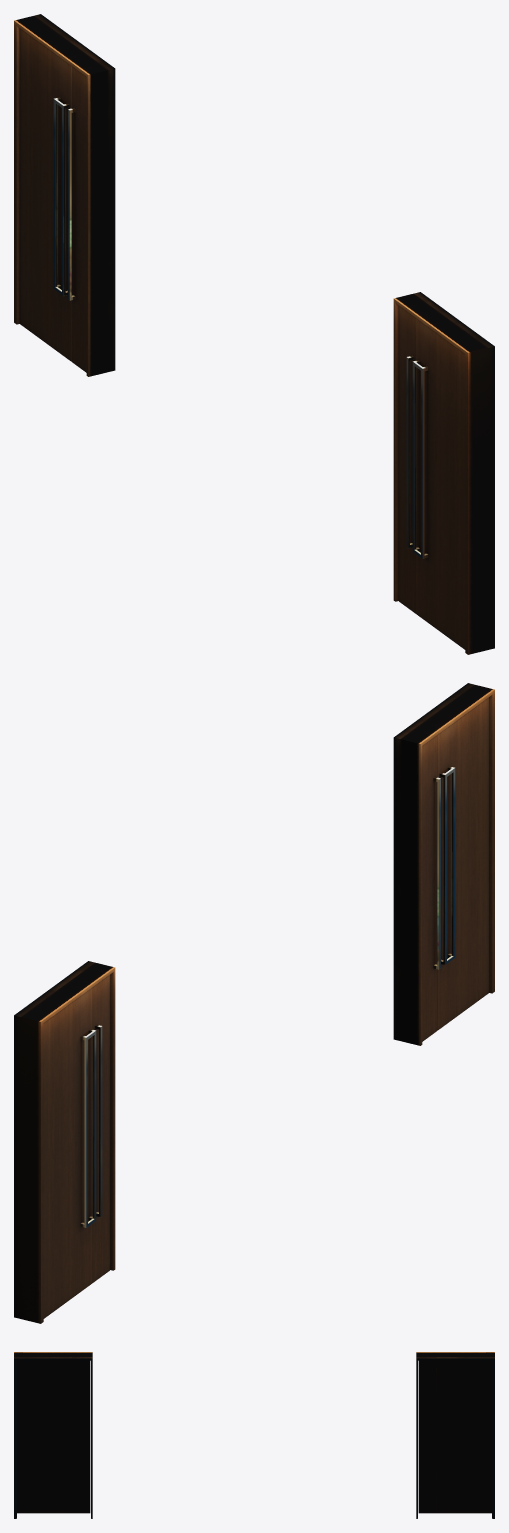
File: CR_Doors.FBX
The picture shows the model from 3 angles, top to bottom: view 1: azimuth 30°, elevation 25°; view 2: azimuth 150°, elevation 25°; view 3: azimuth 270°, elevation 25°; orthographic projection. The views are drawn at different scales.
Visible parts, largest first — view 1: CR_Doors; view 2: CR_Doors; view 3: CR_Doors.
Boxes of the visible parts, x1,y1,x2,y2 form: CR_Doors: [14, 14, 494, 654]; CR_Doors: [14, 683, 494, 1323]; CR_Doors: [14, 1352, 494, 1518].
Size of the model in its own units: 31 by 300 by 818.
